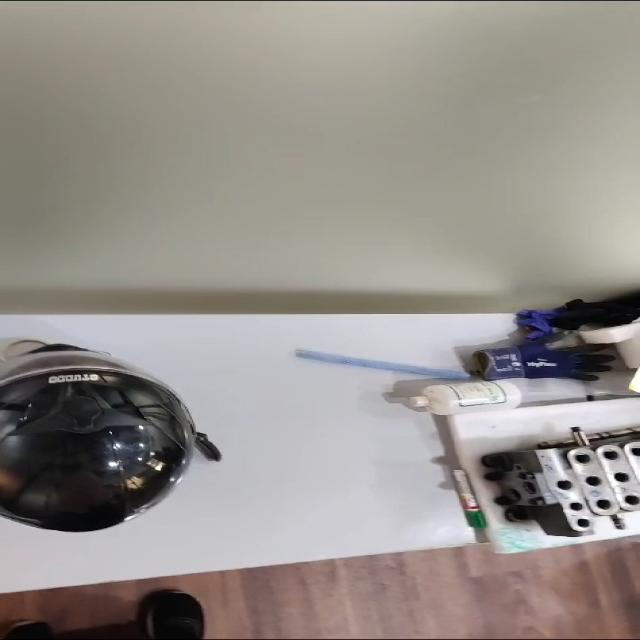helmet: (0, 330, 238, 546)
